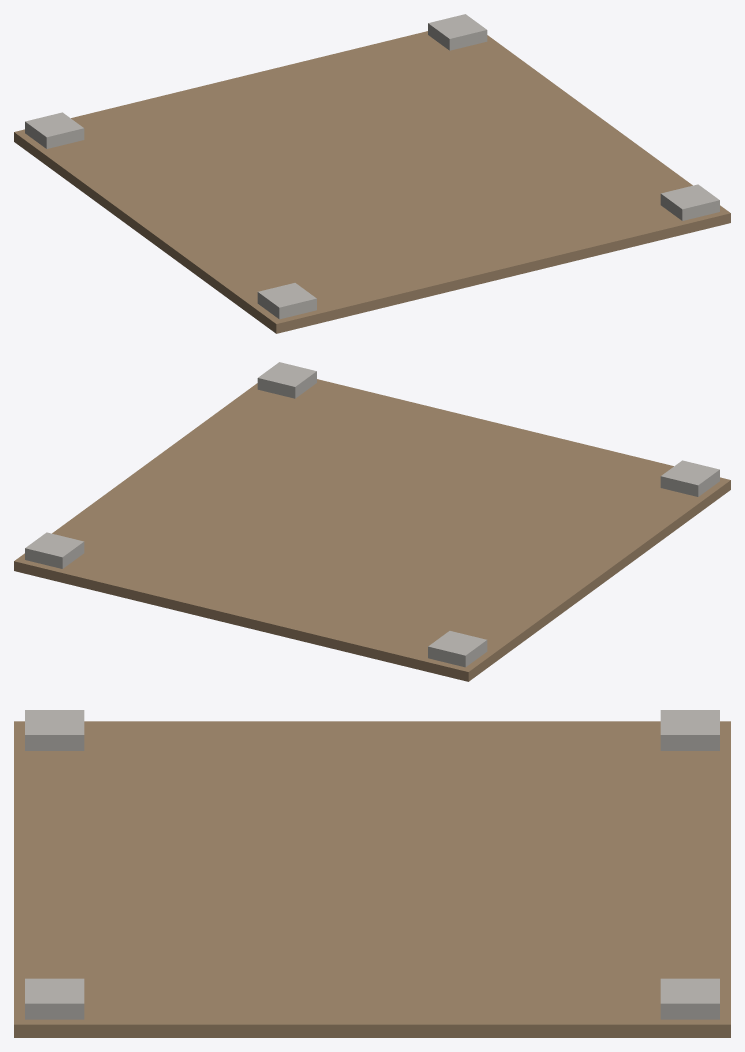
The model's file is building_market_foundation.glb.
The picture shows the model from 3 angles, top to bottom: view 1: azimuth 30°, elevation 25°; view 2: azimuth 150°, elevation 25°; view 3: azimuth 270°, elevation 25°; orthographic projection. The views are drawn at different scales.
Parts seen in each view (by area): view 1: building_market_foundation; view 2: building_market_foundation; view 3: building_market_foundation.
Boxes of the visible parts, box(x1,y1,x2,y2) form: building_market_foundation: box(14, 14, 730, 333); building_market_foundation: box(14, 362, 730, 681); building_market_foundation: box(14, 710, 730, 1037).
Size of the model in its own units: 4.85 by 0.22 by 4.85.
